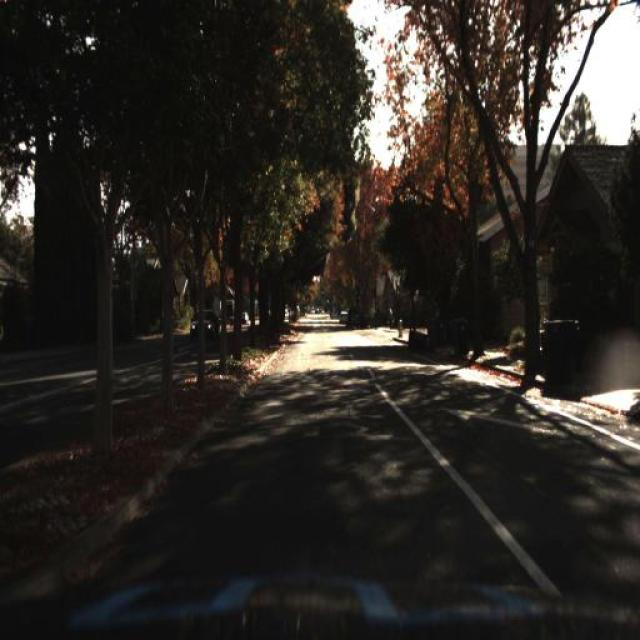car: (186, 307, 220, 352), (191, 311, 217, 340)
trafficLight: (385, 302, 394, 334)
